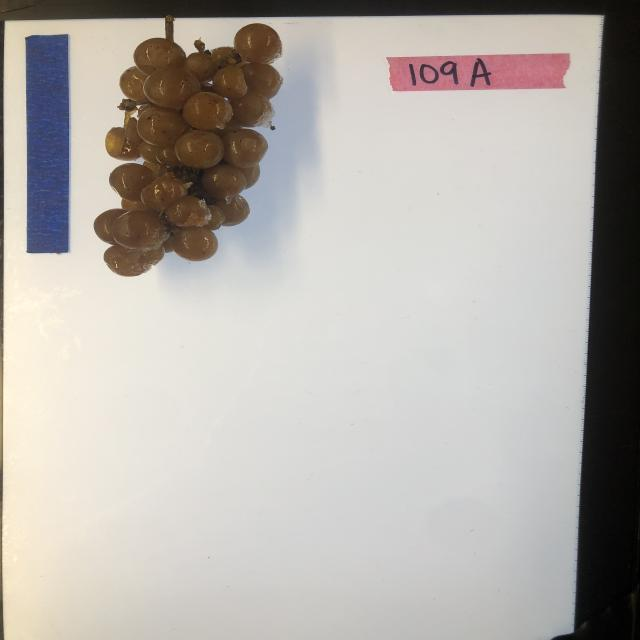grape_cluster: (89, 10, 287, 280)
index: (386, 54, 576, 92)
measure_label: (24, 32, 70, 255)
